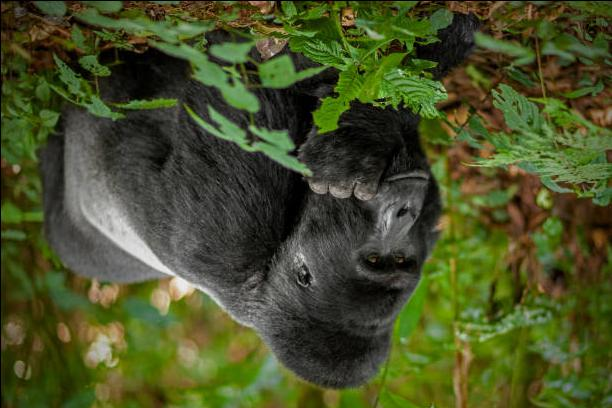goriile_montagne: (35, 73, 440, 408)
